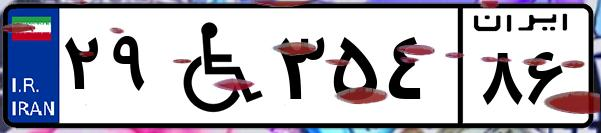2: (57, 26, 110, 100)
3: (270, 28, 330, 110)
4: (385, 28, 445, 110)
5: (330, 28, 385, 110)
6: (525, 38, 570, 115)
8: (475, 38, 525, 113)
9: (110, 28, 158, 98)
ژ (معلولین و جانبازان): (158, 12, 270, 120)
